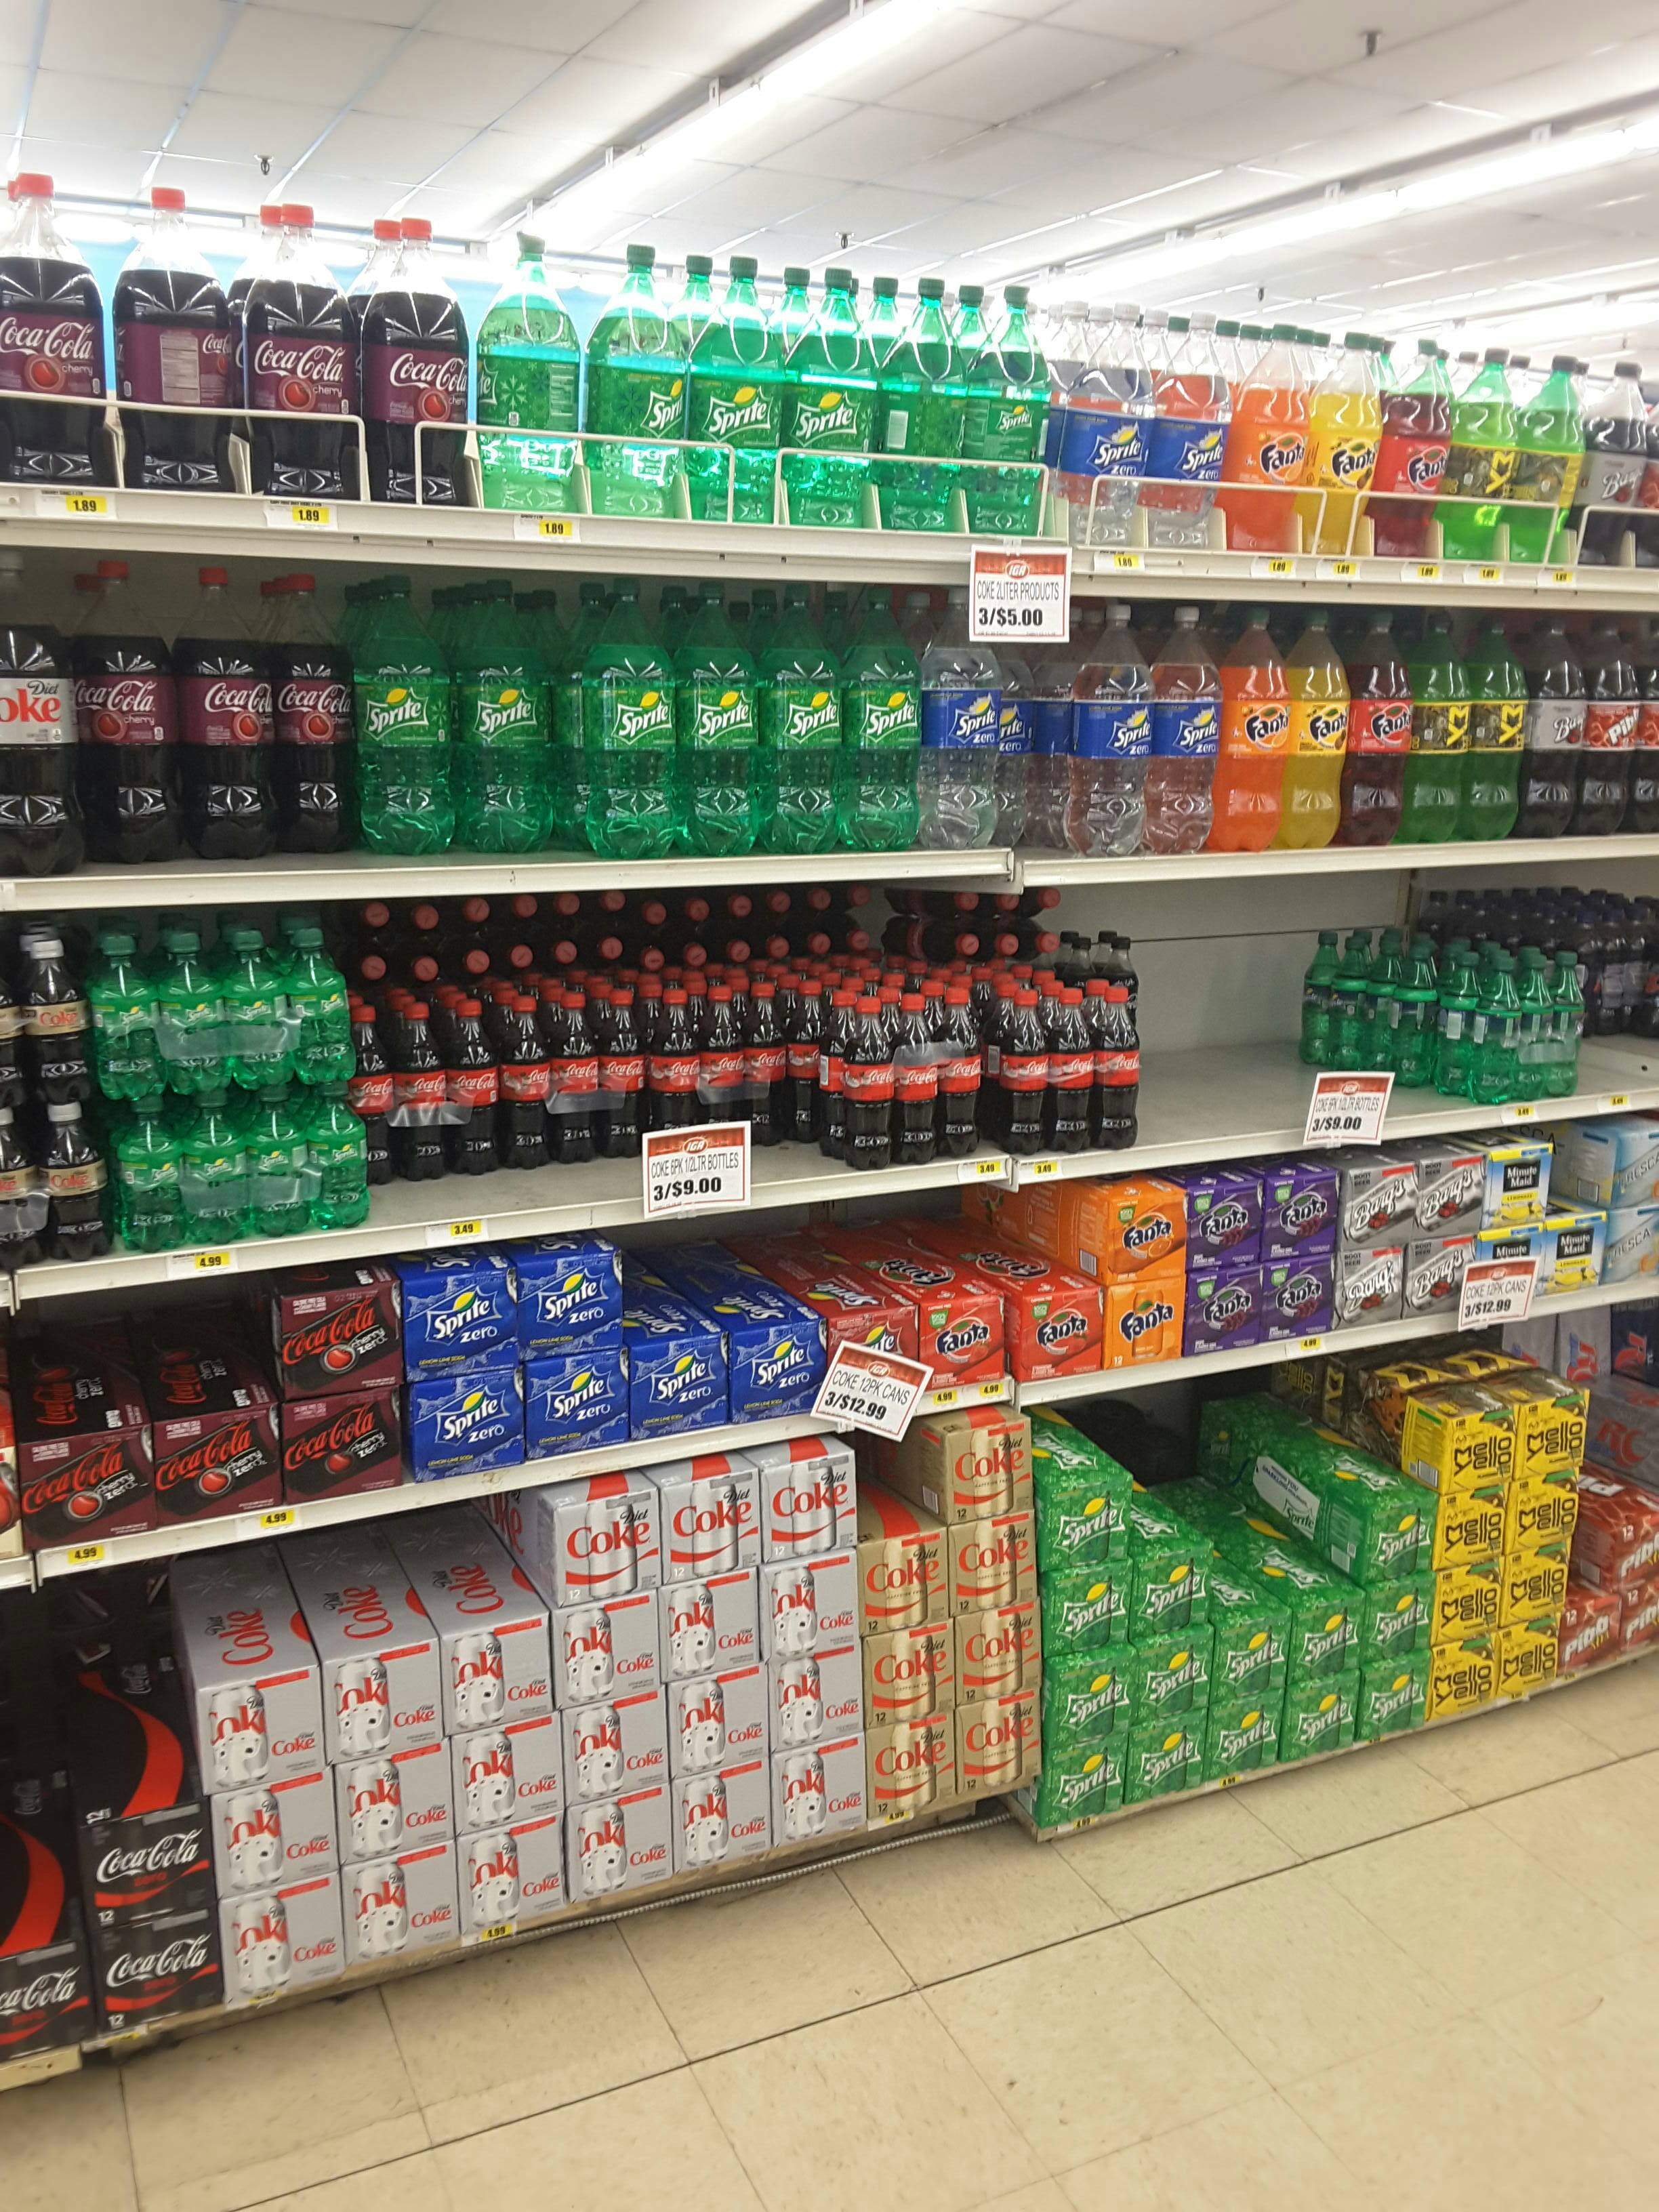Misplacement: (1127, 1374, 1425, 1808), (355, 991, 854, 1230), (52, 603, 352, 885), (362, 594, 594, 871)
Out-of-stock: (1140, 895, 1476, 1148)
